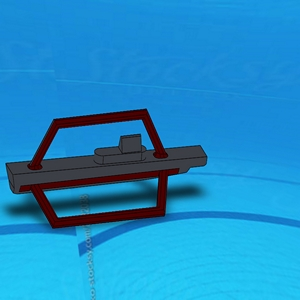submarine: (7, 113, 209, 229)
